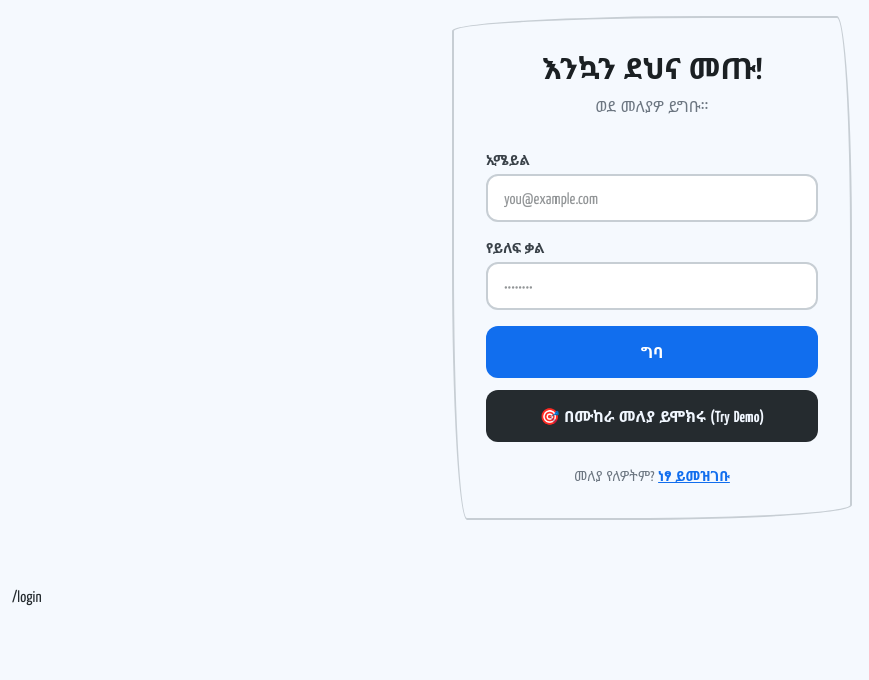
Test: Login page › shows an Amharic error and stays on the page for wrong credentials
In the field labelled "ኢሜይል": (652, 198) [486,174,818,222], type "a@example.com"
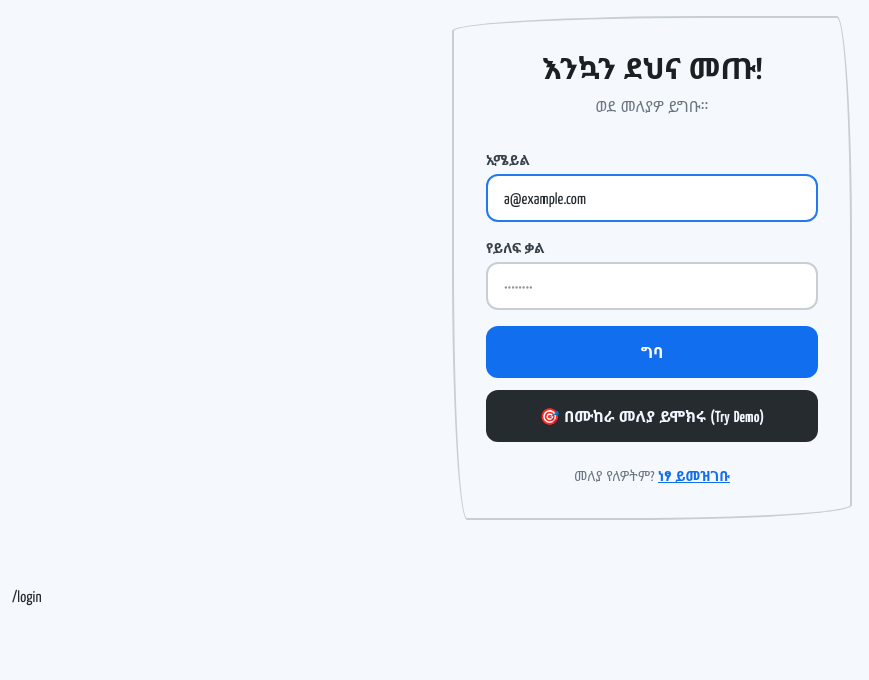
In the password field labelled "የይለፍ ቃል": (652, 286) [486,262,818,310], type "wrong"
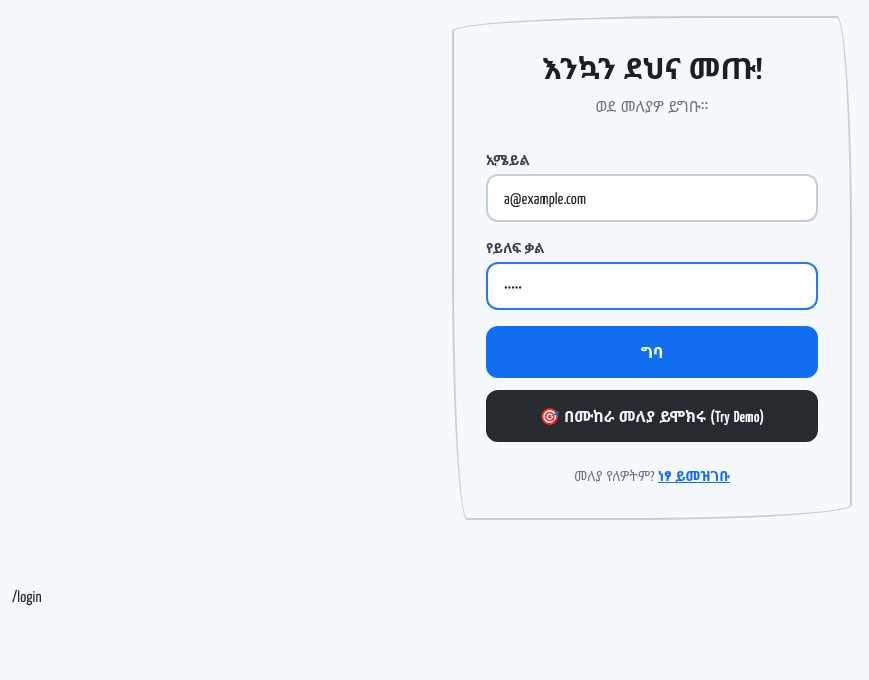
Click the button "ግባ": click(652, 352) [486,326,818,378]
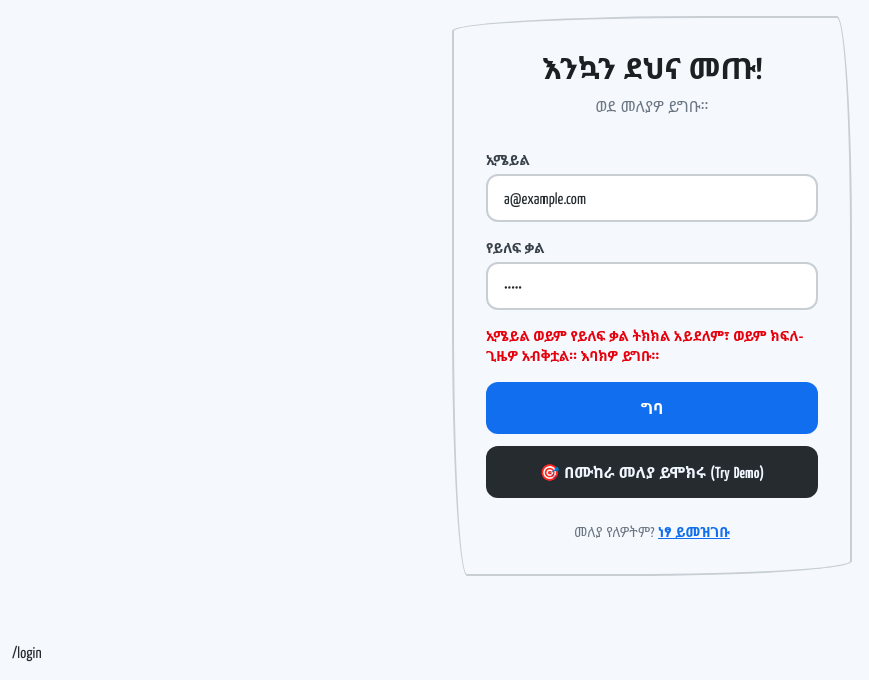
Expected: the text with test id "location" reads "/login", [12,641,42,663]
Result: the text "ኢሜይል ወይም የይለፍ ቃል ትክክል አይደለም፣ ወይም ክፍለ-ጊዜዎ አብቅቷል። እባክዎ ይግቡ።" is shown at [486,326,818,366]
